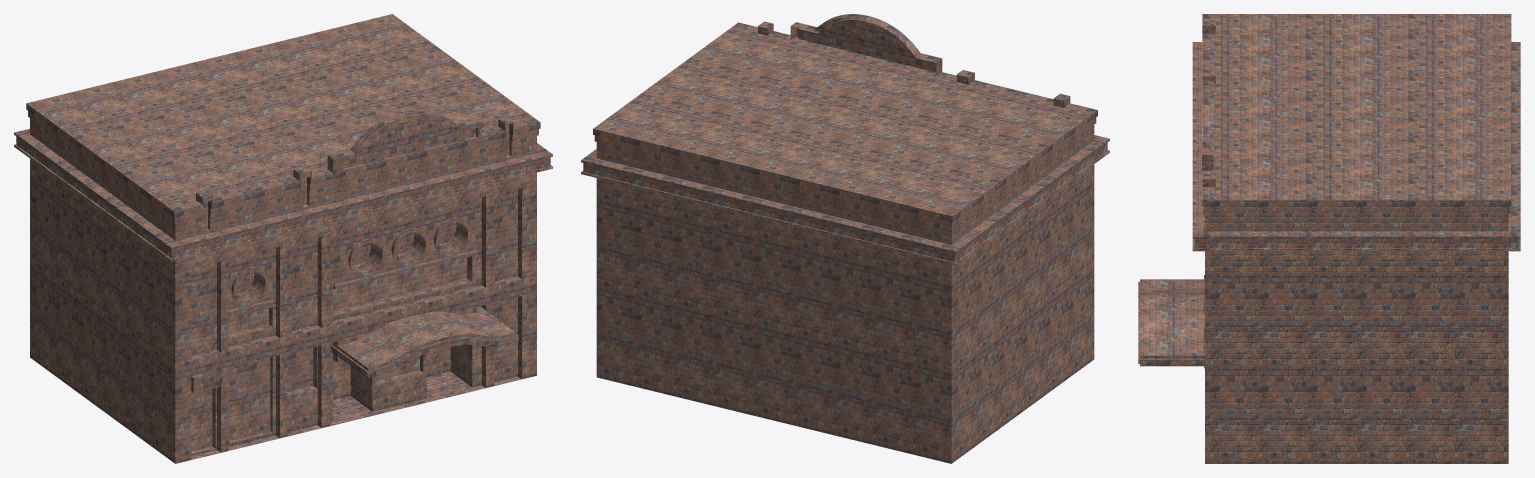
File: theatre new facade.fbx
The picture shows the model from 3 angles, left to right: view 1: azimuth 30°, elevation 25°; view 2: azimuth 150°, elevation 25°; view 3: azimuth 270°, elevation 25°; orthographic projection. The views are drawn at different scales.
Visible parts, largest first — view 1: theatre_new_facade; view 2: theatre_new_facade; view 3: theatre_new_facade.
Boxes of the visible parts, x1,y1,x2,y2 form: theatre_new_facade: [14, 14, 552, 463]; theatre_new_facade: [581, 14, 1109, 463]; theatre_new_facade: [1138, 14, 1520, 463].
Size of the model in its own units: 395 by 289 by 328.
1 material, 1 textured.
